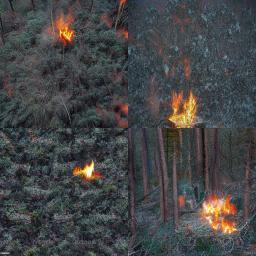Small fire: (197, 192, 242, 234), (166, 92, 202, 129), (53, 17, 80, 49), (105, 17, 138, 43), (72, 159, 105, 183), (174, 190, 188, 212)
